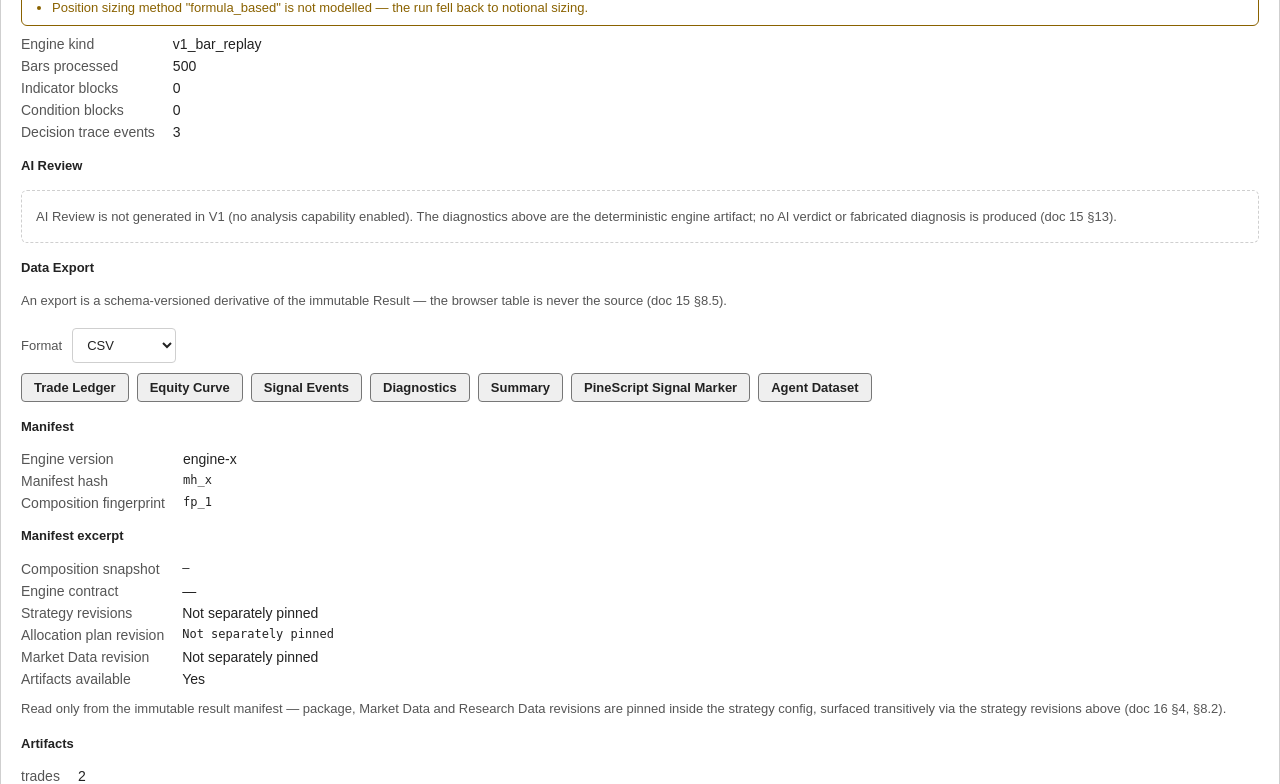
ResultDetail trade list + export › requests an export with a fresh Idempotency-Key and shows the receipt
(page scrolled)
Step 1. Click the button "Trade Ledger" → (75, 387), box [21, 372, 129, 402]
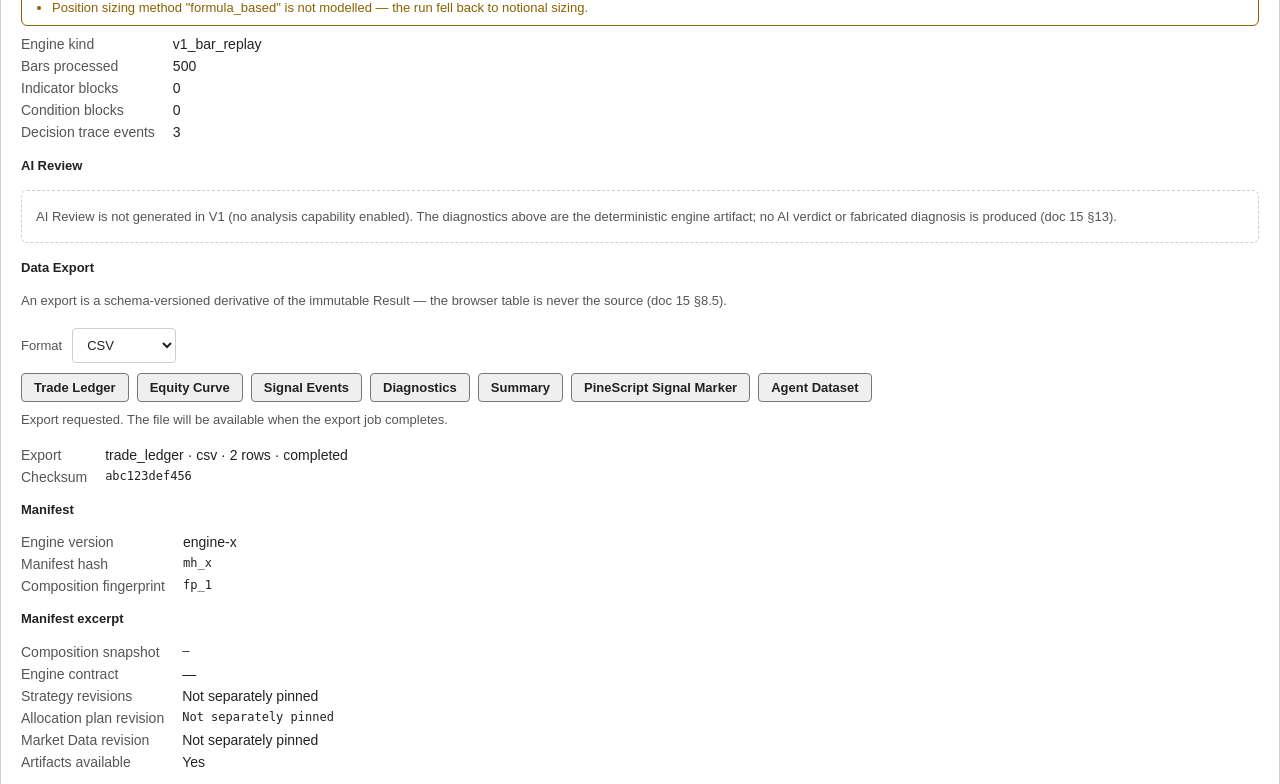
Check: the text "Export requested. The file will be available when the export job completes." is shown, box [21, 412, 448, 426]
Check: the text "trade_ledger · csv · 2 rows · completed" is shown, box [105, 446, 348, 462]
Check: the text "abc123def456" is shown, box [105, 468, 192, 482]
